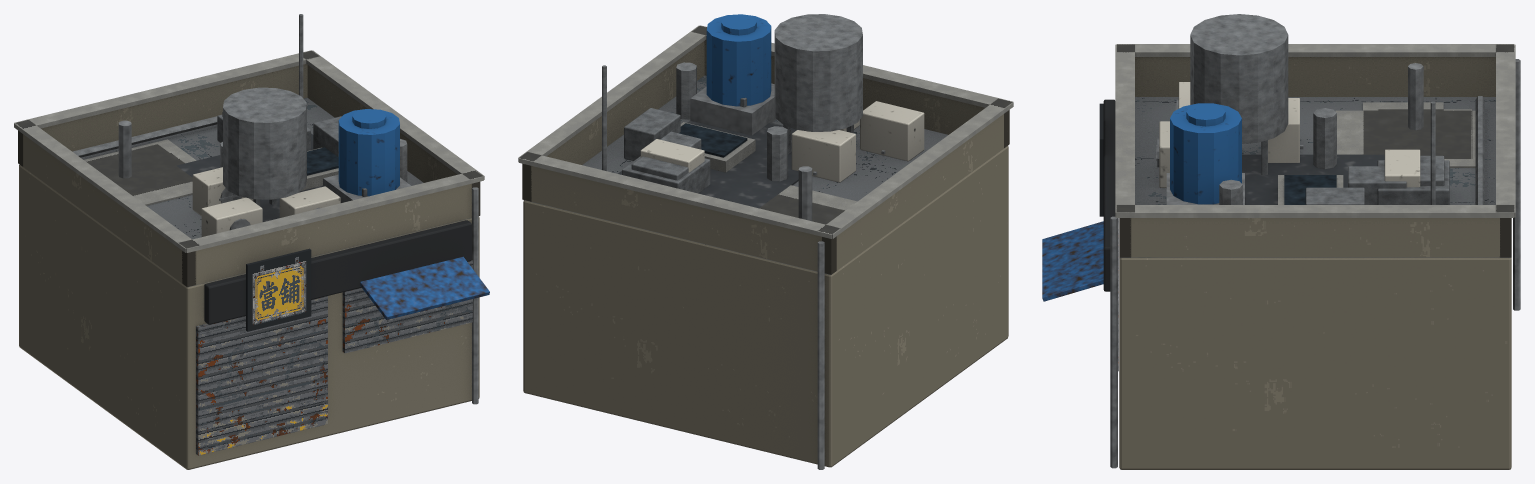
The model's file is city_row_low_a.glb.
3 renders of one model, left to right at view 1: azimuth 30°, elevation 25°; view 2: azimuth 150°, elevation 25°; view 3: azimuth 270°, elevation 25°, orthographic. The views are drawn at different scales.
Visible parts, largest first — view 1: city_row_low_a.001; view 2: city_row_low_a.001; view 3: city_row_low_a.001.
Part boxes in pixels (left/top/right/bottom): city_row_low_a.001: left=14, top=14, right=489, bottom=469; city_row_low_a.001: left=518, top=14, right=1013, bottom=469; city_row_low_a.001: left=1042, top=14, right=1520, bottom=469.
Size of the model in its own units: 6.12 by 5.8 by 7.32.
Materials: 12 (12 with a texture image).
